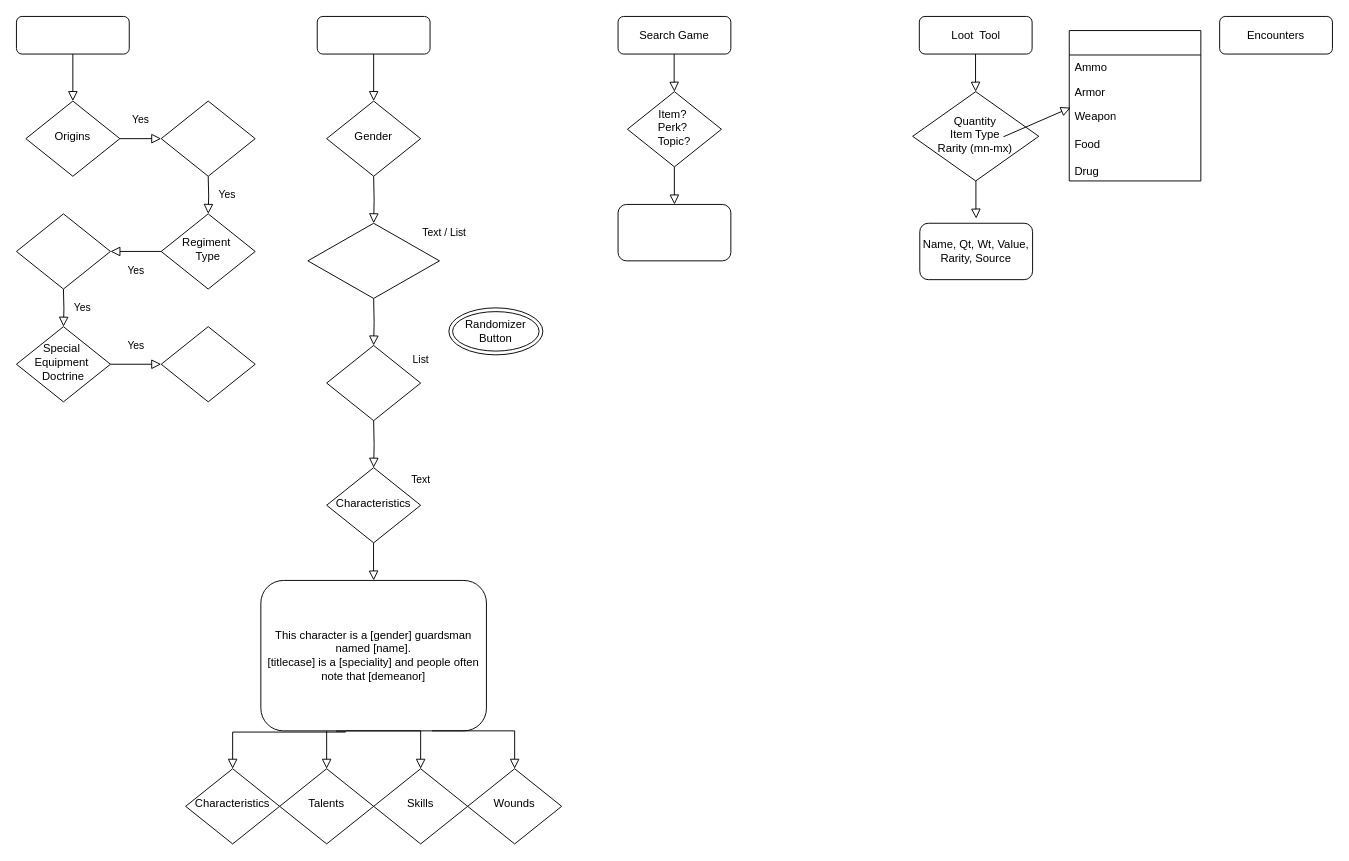
This 1349x861 diagram has some shape labels left out. Here are the shapes that lost their labels. From the top down, the box of each, then its label:
(16, 16, 129, 54): New Regiment
(316, 16, 430, 54): New Character
(1068, 30, 1201, 181): Item Type List
(160, 100, 255, 176): Commanding Officer
(16, 213, 110, 289): Training Doctrines
(617, 204, 731, 261): Name, Category Stat Table Information
(307, 222, 439, 298): Name / titlecase Demeanor
(160, 326, 255, 402): Regimental Drawbacks
(326, 345, 421, 421): Speciality
